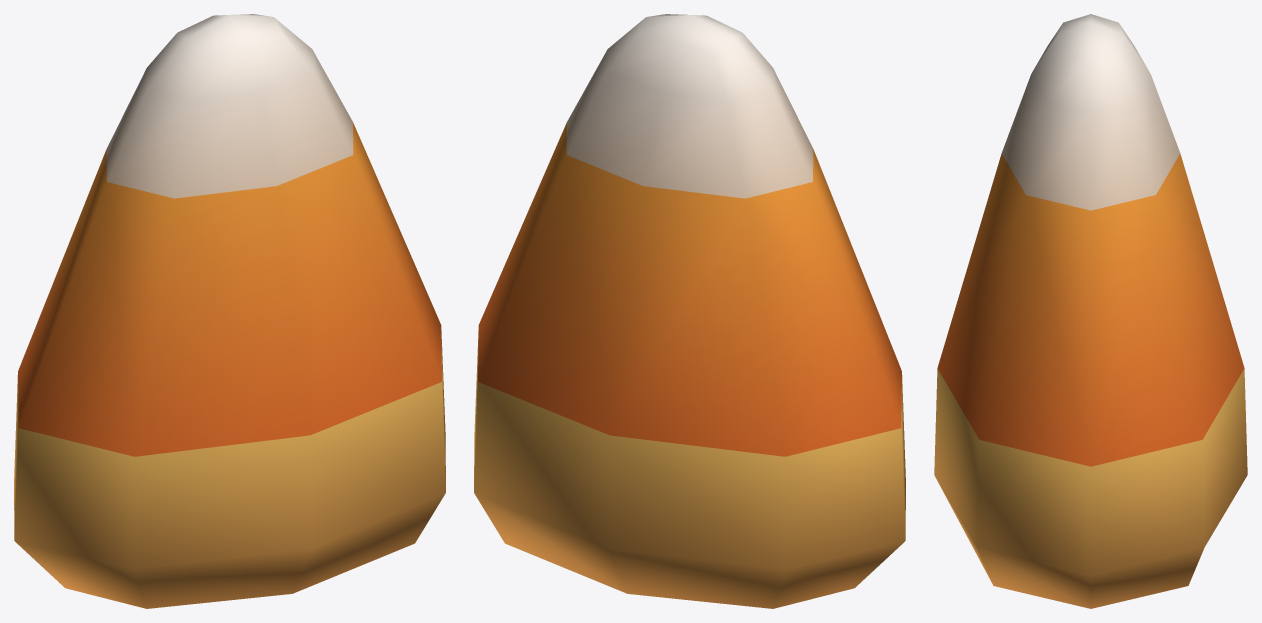
Rendered from candycorn.gltf.
3 views of the same model, side by side, from view 1: azimuth 30°, elevation 25°; view 2: azimuth 150°, elevation 25°; view 3: azimuth 270°, elevation 25° (orthographic). The views are drawn at different scales.
Parts seen in each view (by area): view 1: candycorn; view 2: candycorn; view 3: candycorn.
Boxes of the visible parts, x1,y1,x2,y2 form: candycorn: (14,14,445,608); candycorn: (474,14,905,608); candycorn: (934,14,1247,608).
Size of the model in its own units: 0.2426 by 0.2969 by 0.1597.
1 material, 1 textured.
